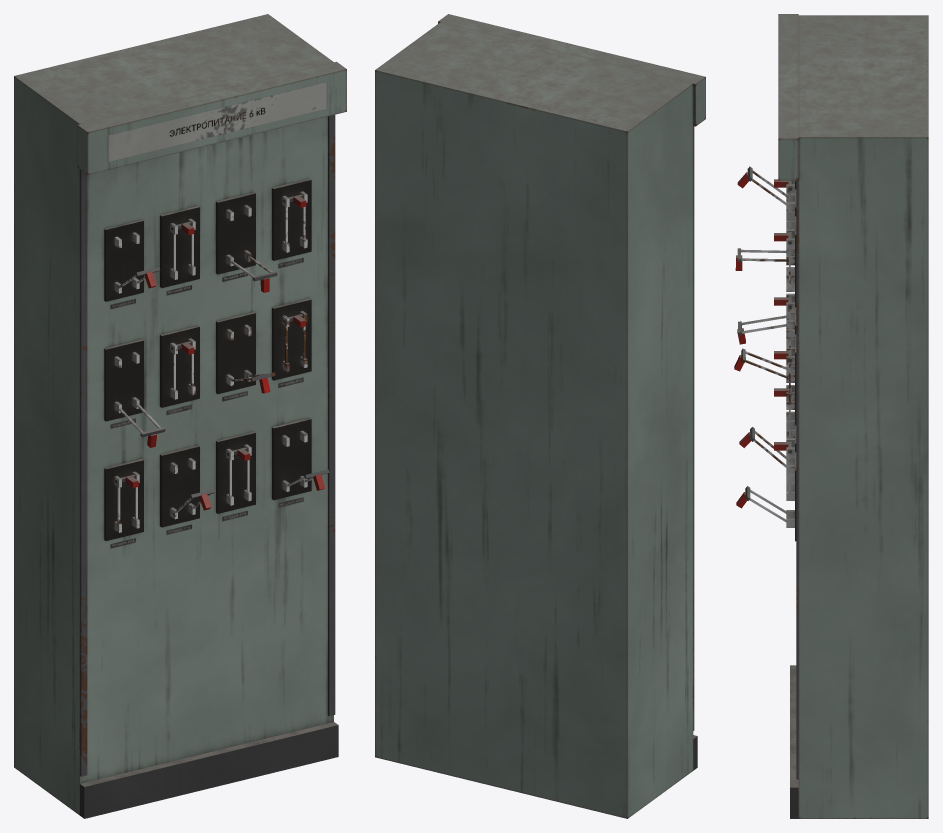
File: SM_WallPanel_KnifeSwitches.fbx
The picture shows the model from 3 angles, left to right: view 1: azimuth 30°, elevation 25°; view 2: azimuth 150°, elevation 25°; view 3: azimuth 270°, elevation 25°; orthographic projection.
Parts seen in each view (by area): view 1: SM_WallPanel_KnifeSwitches; view 2: SM_WallPanel_KnifeSwitches; view 3: SM_WallPanel_KnifeSwitches.
Part boxes in pixels (<box>): SM_WallPanel_KnifeSwitches: <box>14,14,346,818</box>; SM_WallPanel_KnifeSwitches: <box>375,14,705,818</box>; SM_WallPanel_KnifeSwitches: <box>734,14,928,818</box>.
Bounding box in the file's own units: 1.02 × 2.6 × 0.6725.
1 material, 1 textured.
